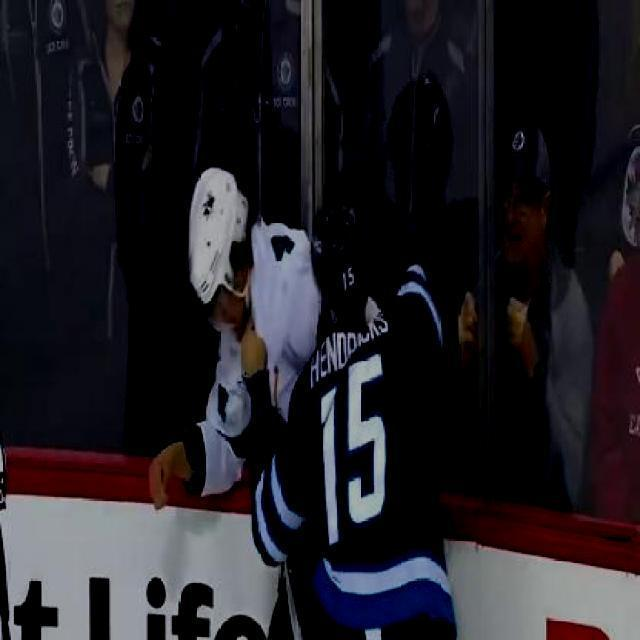fight: (146, 166, 445, 640)
